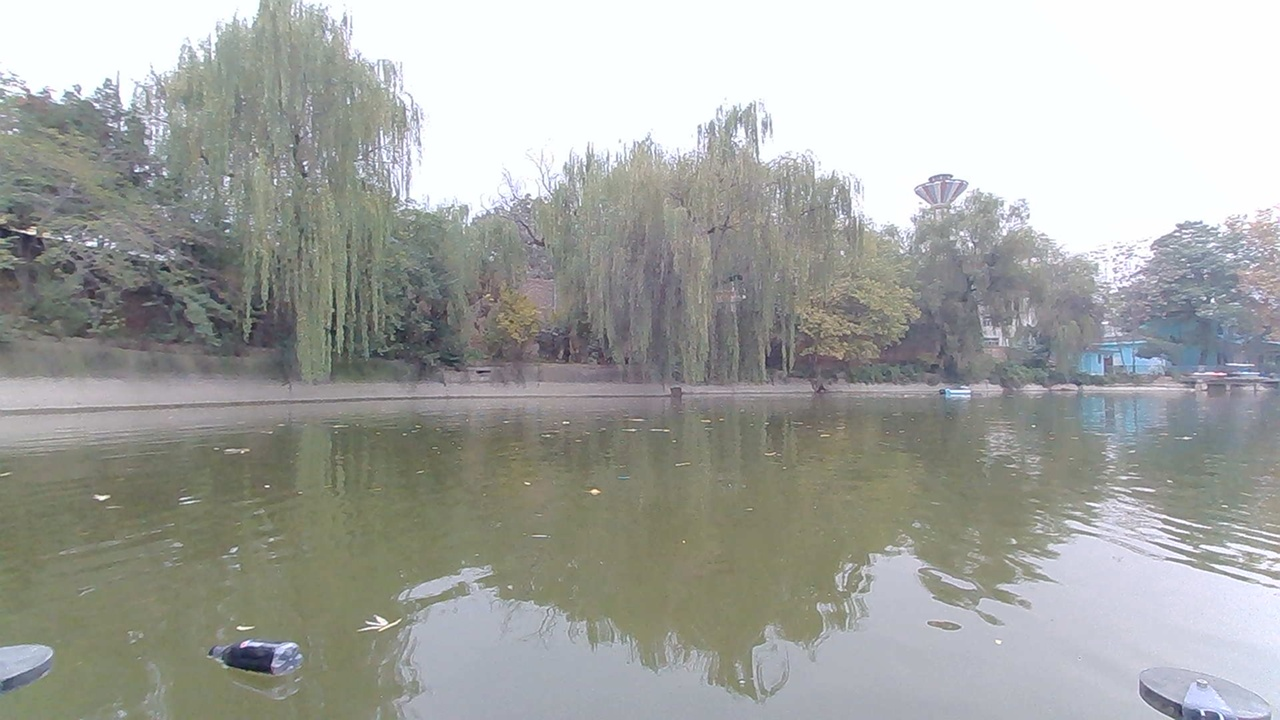bottle: (236, 642, 290, 676)
